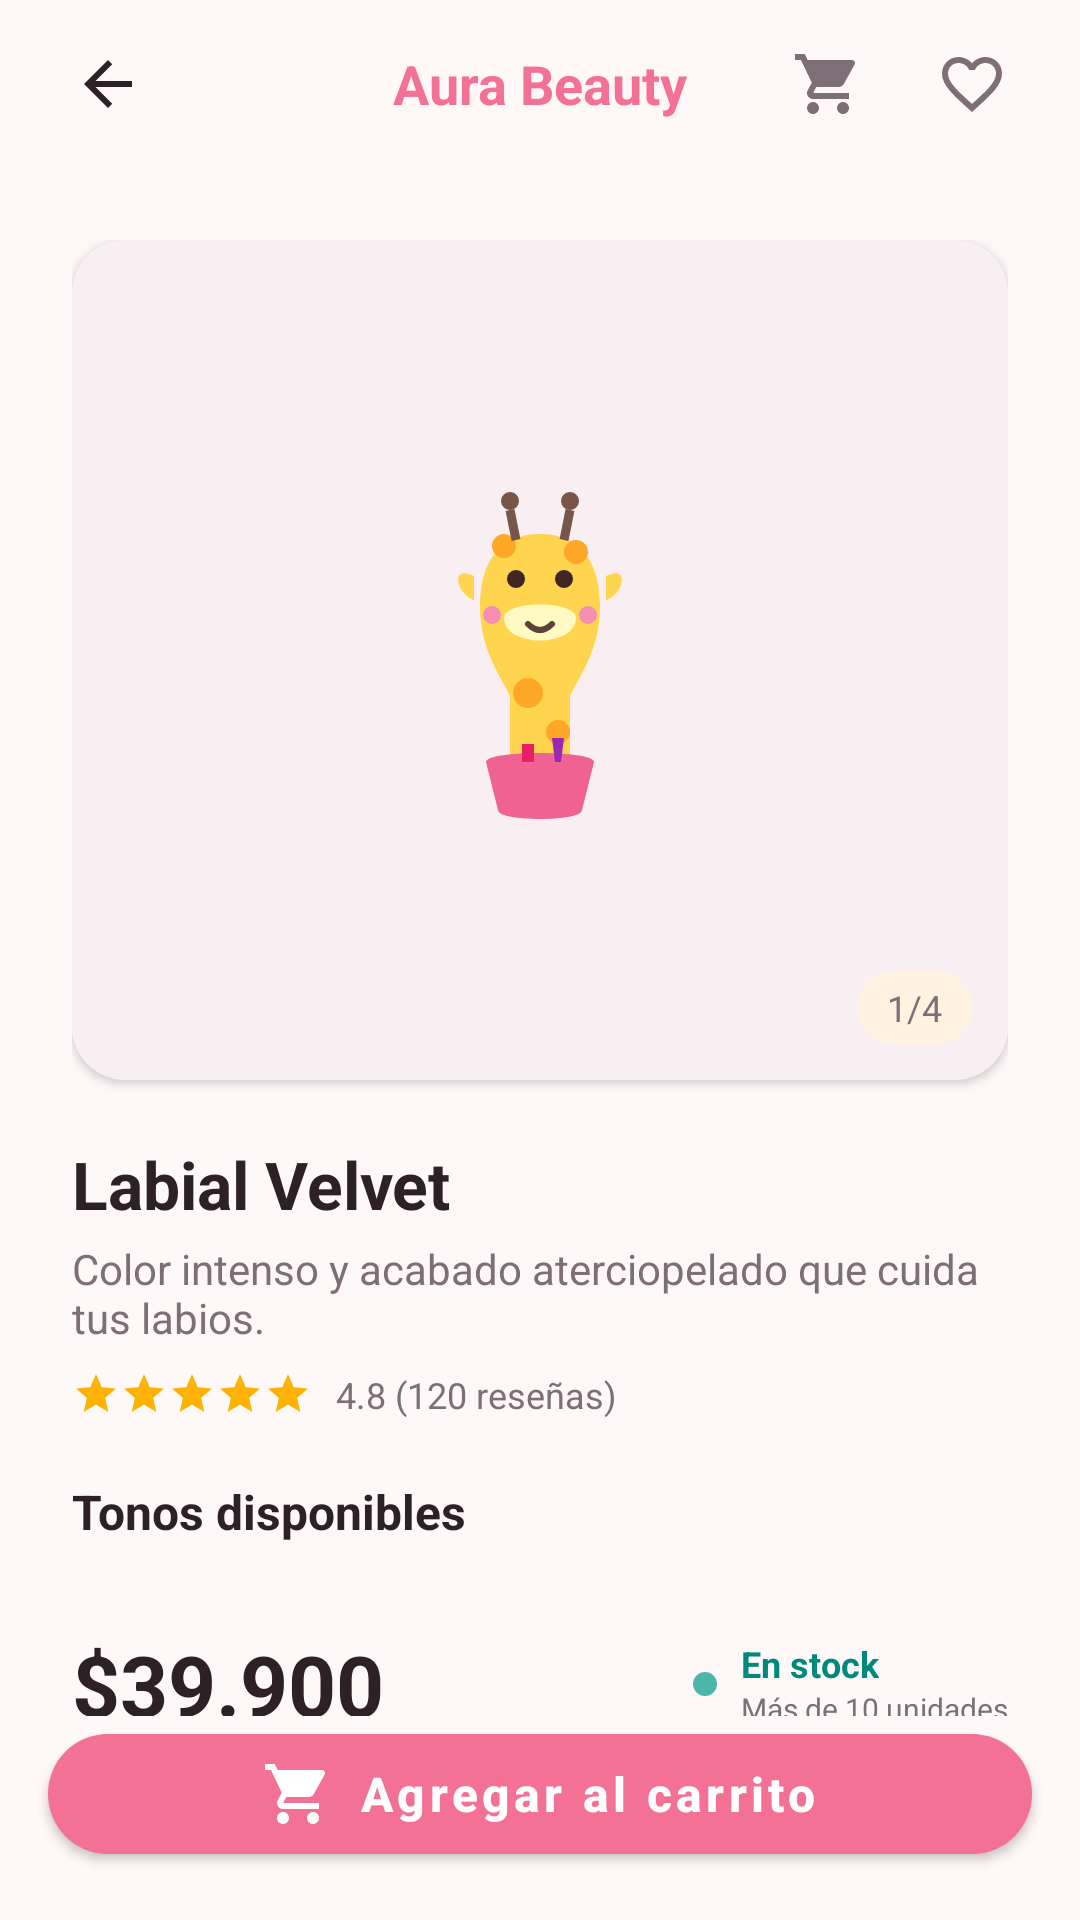

Icons on this 1080*1920 Android screen, each with the point to tap as (x,y):
Carrito: (825,84)
Estrella: (96,1393), (144,1393), (192,1393), (240,1393), (288,1393)
Favorito: (972,84)
Volver: (108,84)
